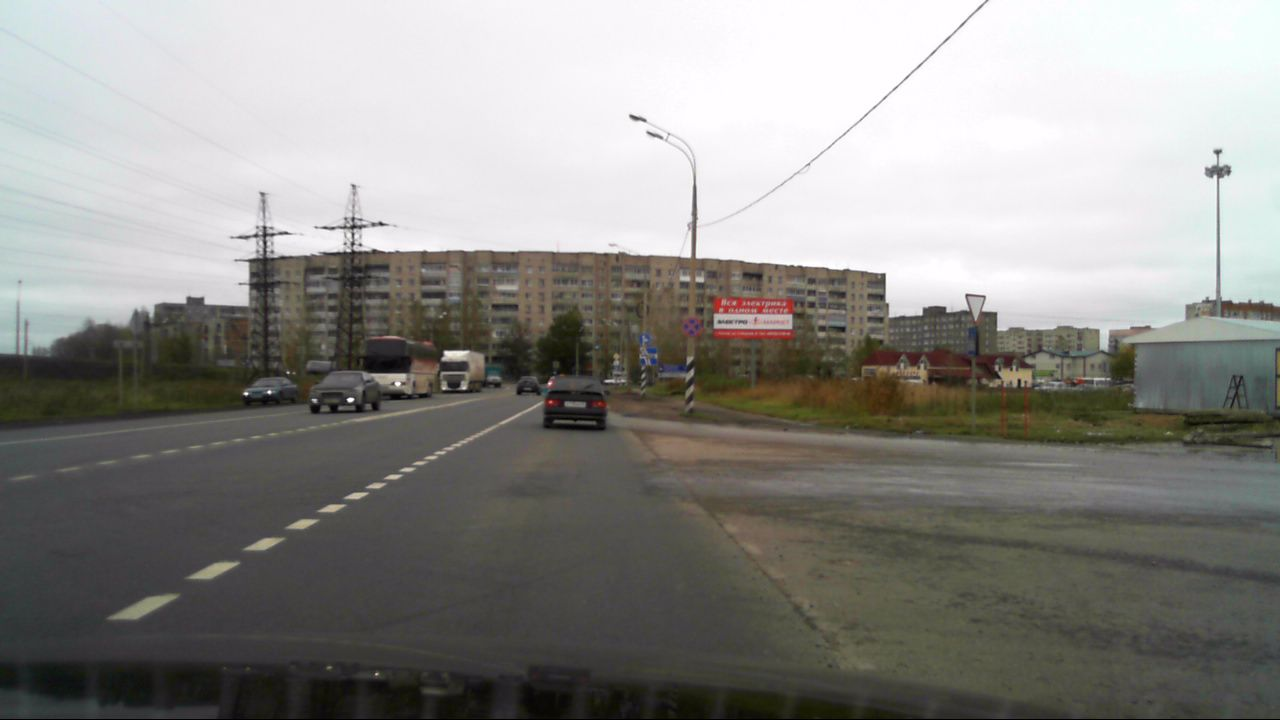No Parking: (681, 316, 702, 339)
